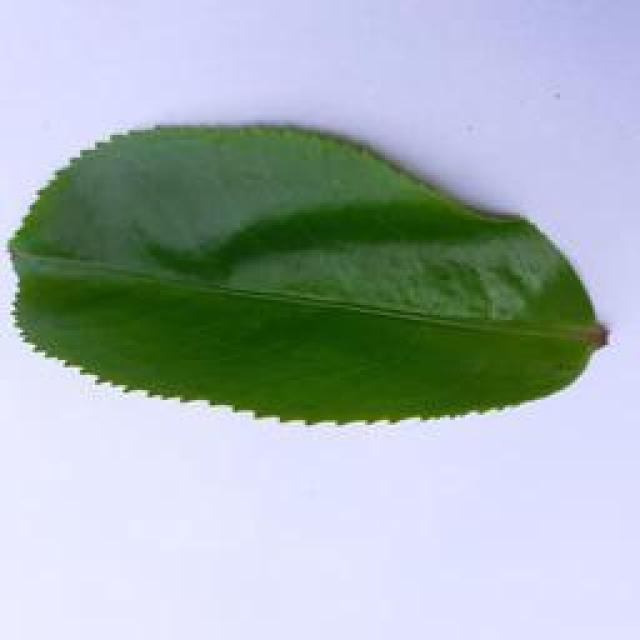Healthy: (10, 121, 614, 432)
